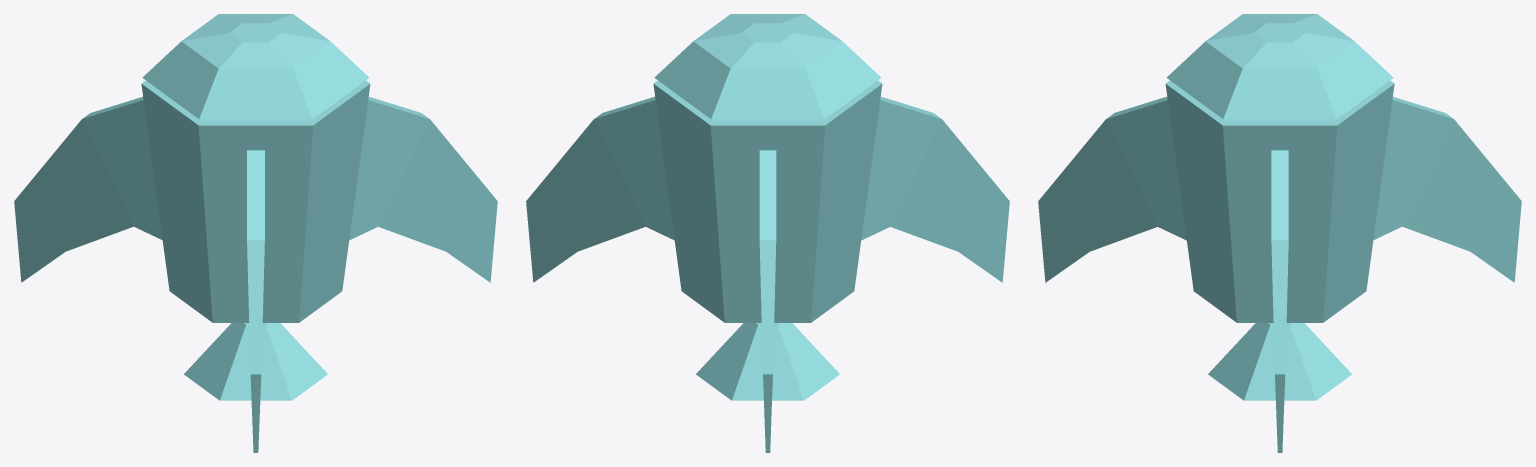
File: rocket.fbx
The picture shows the model from 3 angles, left to right: view 1: azimuth 30°, elevation 25°; view 2: azimuth 150°, elevation 25°; view 3: azimuth 270°, elevation 25°; orthographic projection.
Parts seen in each view (by area): view 1: Rocket; view 2: Rocket; view 3: Rocket.
Boxes of the visible parts, x1,y1,x2,y2 form: Rocket: (14, 14, 497, 452); Rocket: (526, 14, 1009, 452); Rocket: (1038, 14, 1521, 452).
Size of the model in its own units: 366 by 329 by 422.
